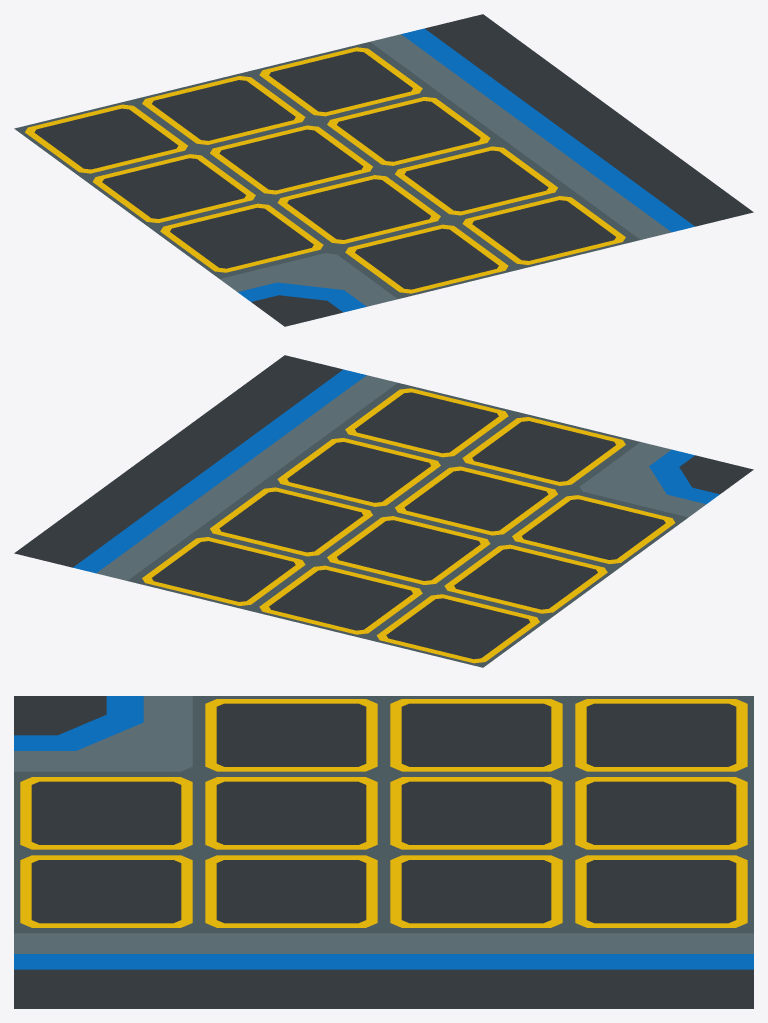
The model's file is Floor_type_C_013.glb.
The picture shows the model from 3 angles, top to bottom: view 1: azimuth 30°, elevation 25°; view 2: azimuth 150°, elevation 25°; view 3: azimuth 270°, elevation 25°; orthographic projection. The views are drawn at different scales.
Visible parts, largest first — view 1: Floor_type_C_013; view 2: Floor_type_C_013; view 3: Floor_type_C_013.
Boxes of the visible parts, x1,y1,x2,y2 form: Floor_type_C_013: [14, 14, 753, 326]; Floor_type_C_013: [14, 355, 753, 667]; Floor_type_C_013: [14, 696, 753, 1008].
Size of the model in its own units: 4 by 2.85e-23 by 4.
Materials: 2 (2 with a texture image).
